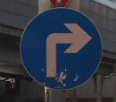right_turn: (19, 7, 103, 90)
